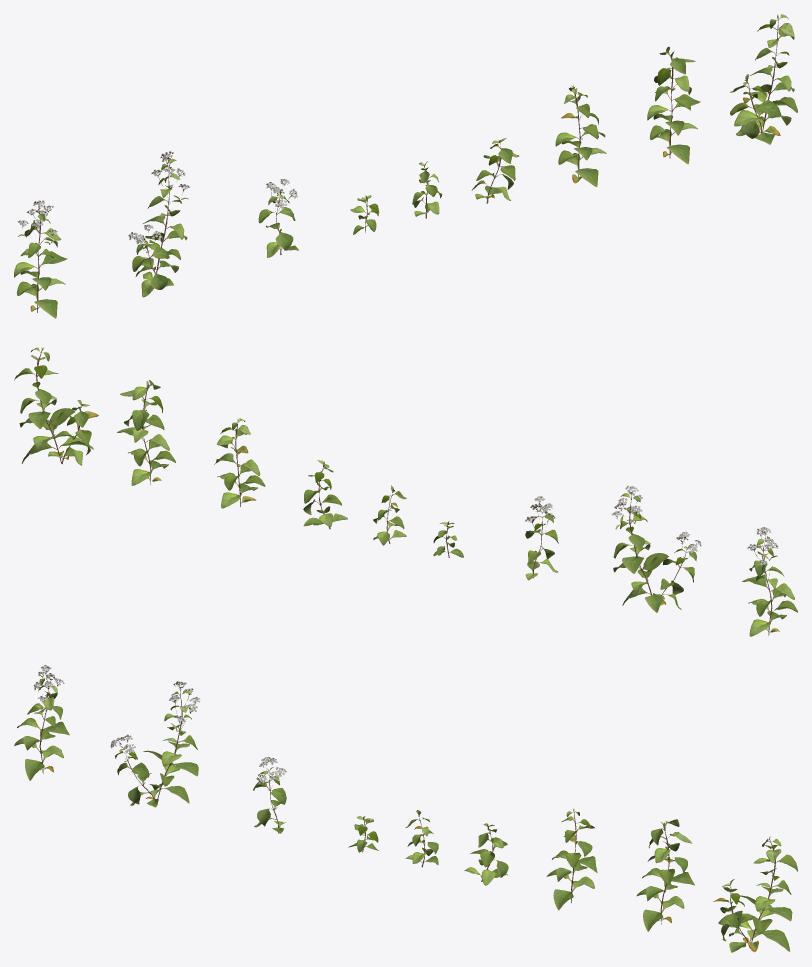
File: shrub_01.glb
The picture shows the model from 3 angles, top to bottom: view 1: azimuth 30°, elevation 25°; view 2: azimuth 150°, elevation 25°; view 3: azimuth 330°, elevation 25°; orthographic projection. The views are drawn at different scales.
Visible parts, largest first — view 1: shrub_01_a; view 2: shrub_01_a; view 3: shrub_01_a.
Part boxes in pixels (<box>): shrub_01_a: <box>14,14,797,318</box>; shrub_01_a: <box>14,347,797,636</box>; shrub_01_a: <box>14,665,797,952</box>.
Size of the model in its own units: 2.59 by 0.3961 by 0.2185.
1 material, 1 textured.
